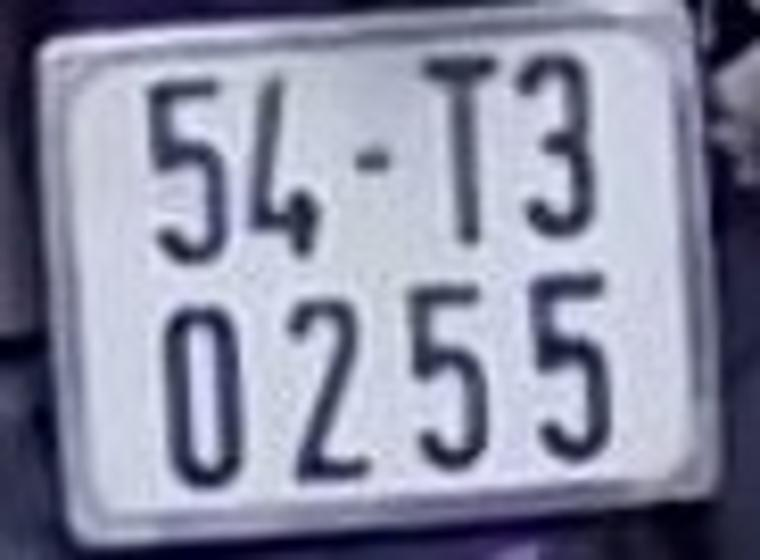-: (354, 145, 395, 178)
0: (161, 299, 250, 485)
2: (281, 292, 373, 479)
3: (512, 49, 602, 243)
4: (242, 80, 326, 254)
5: (523, 265, 621, 465), (147, 78, 239, 264), (406, 278, 494, 470)
T: (412, 51, 503, 256)
